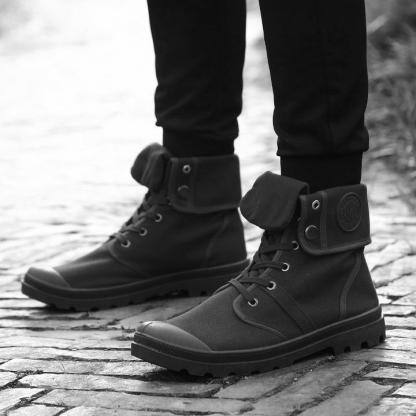ankle: (321, 278, 327, 285), (201, 217, 204, 219)
heel: (374, 301, 378, 306), (244, 255, 247, 258)
left_foot: (130, 274, 387, 379)
pinky: (200, 346, 205, 351), (41, 268, 43, 270)
right_foot: (24, 181, 252, 312)
toe: (55, 284, 59, 287), (148, 323, 152, 326)
